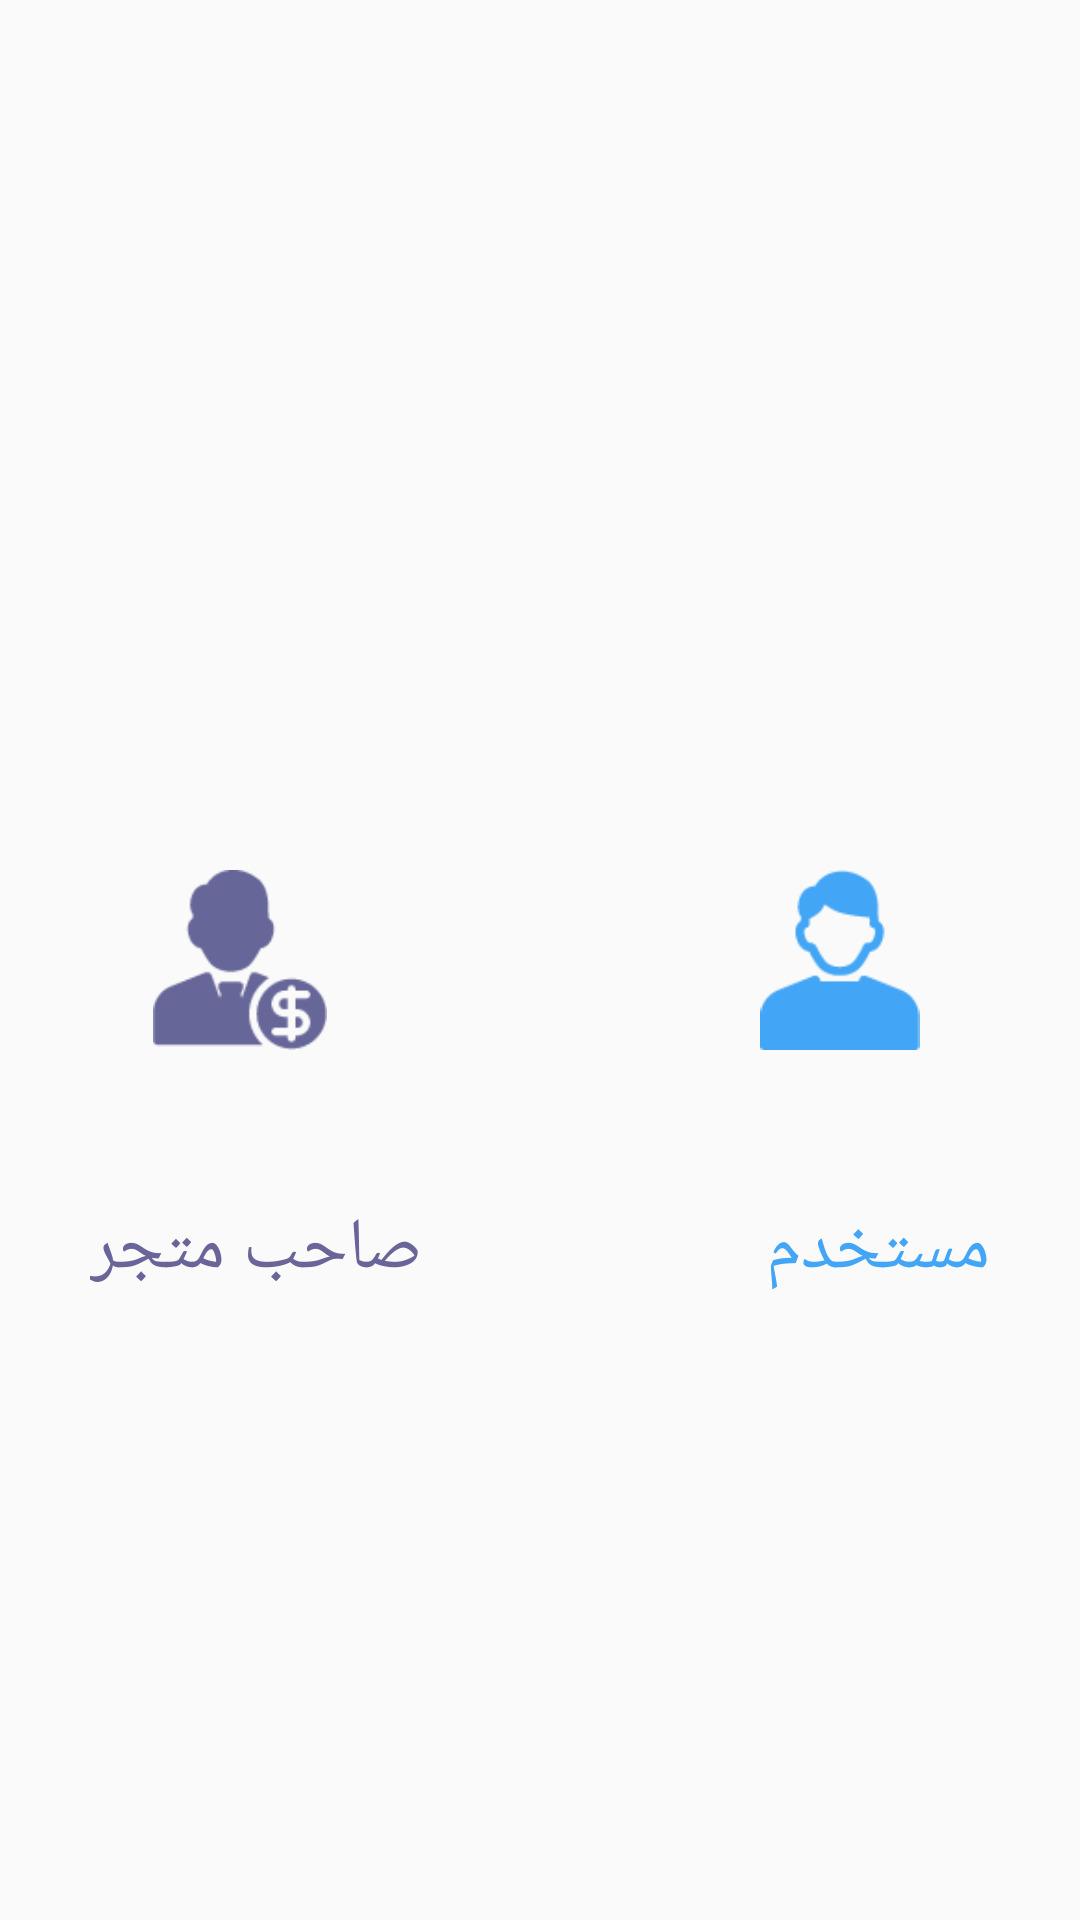

Icon click points for this 1080 × 1920 phone screenshot, format point (x, y):
persongood: point (840, 960)
sellergood: point (240, 960)
